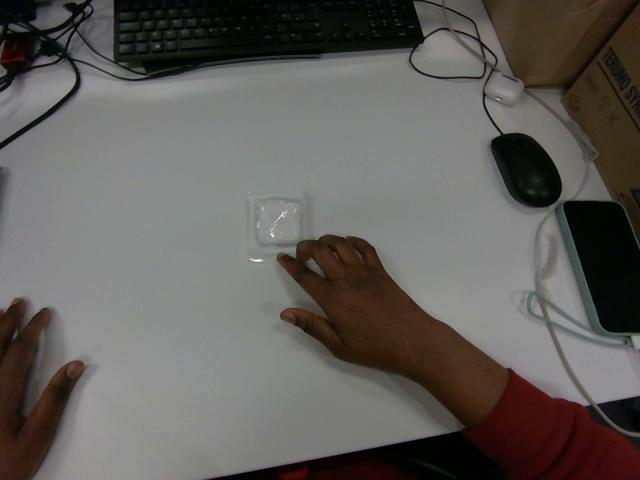gauze: (248, 193, 307, 262)
